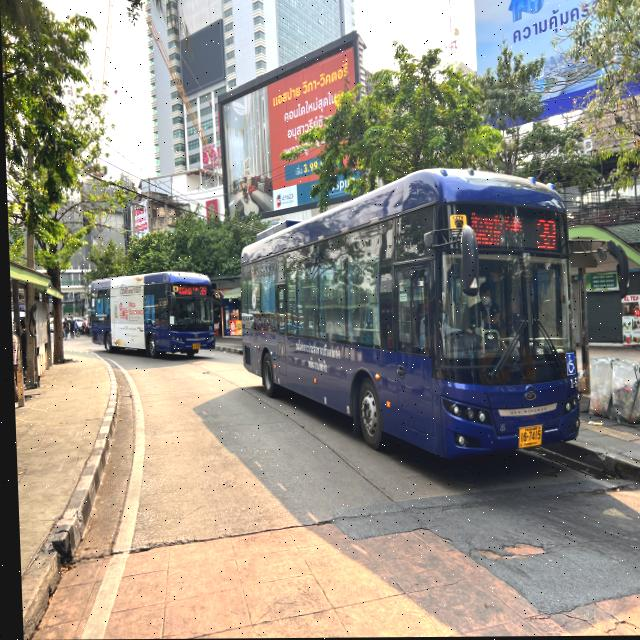Bus-Line-Number: (531, 215, 560, 254), (197, 287, 205, 295)
Destination-Sign-Normal: (465, 208, 523, 252), (175, 285, 197, 296)
TSB-Bus: (230, 161, 582, 495), (85, 267, 216, 362)
